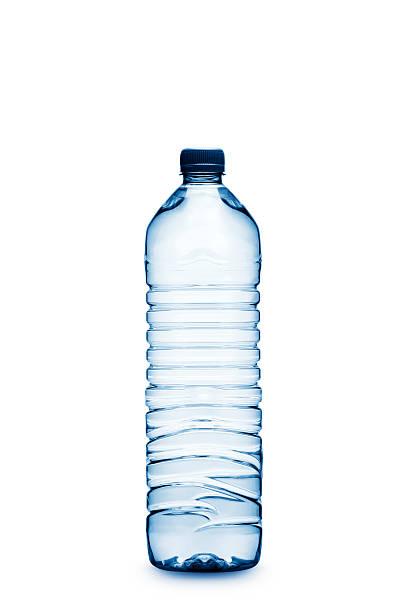HDPE Cap: (179, 148, 225, 165)
HDPE Ring: (180, 166, 225, 174)
PET Bottle: (143, 147, 265, 575)
